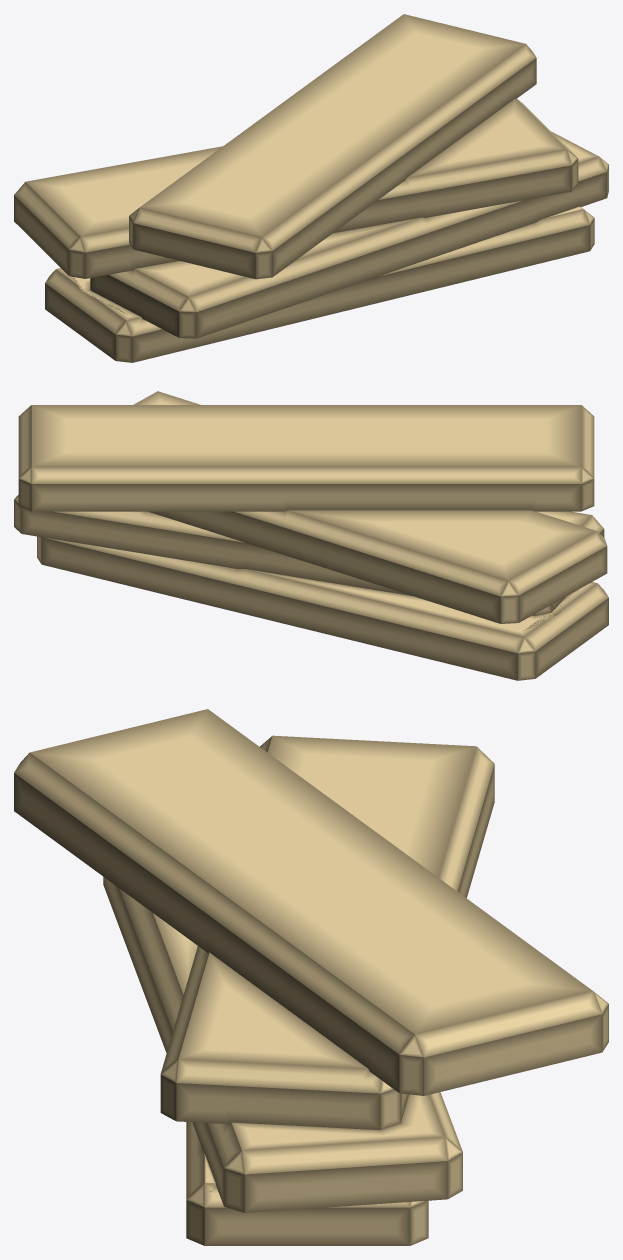
File: BoardStack.fbx
The picture shows the model from 3 angles, top to bottom: view 1: azimuth 30°, elevation 25°; view 2: azimuth 150°, elevation 25°; view 3: azimuth 270°, elevation 25°; orthographic projection. The views are drawn at different scales.
Visible parts, largest first — view 1: BoardStack; view 2: BoardStack; view 3: BoardStack.
Part boxes in pixels (x1,y1,x2,y2): BoardStack: (14,14,608,362); BoardStack: (14,391,608,680); BoardStack: (14,709,608,1245).
Size of the model in its own units: 4.42 by 1.17 by 2.95.
